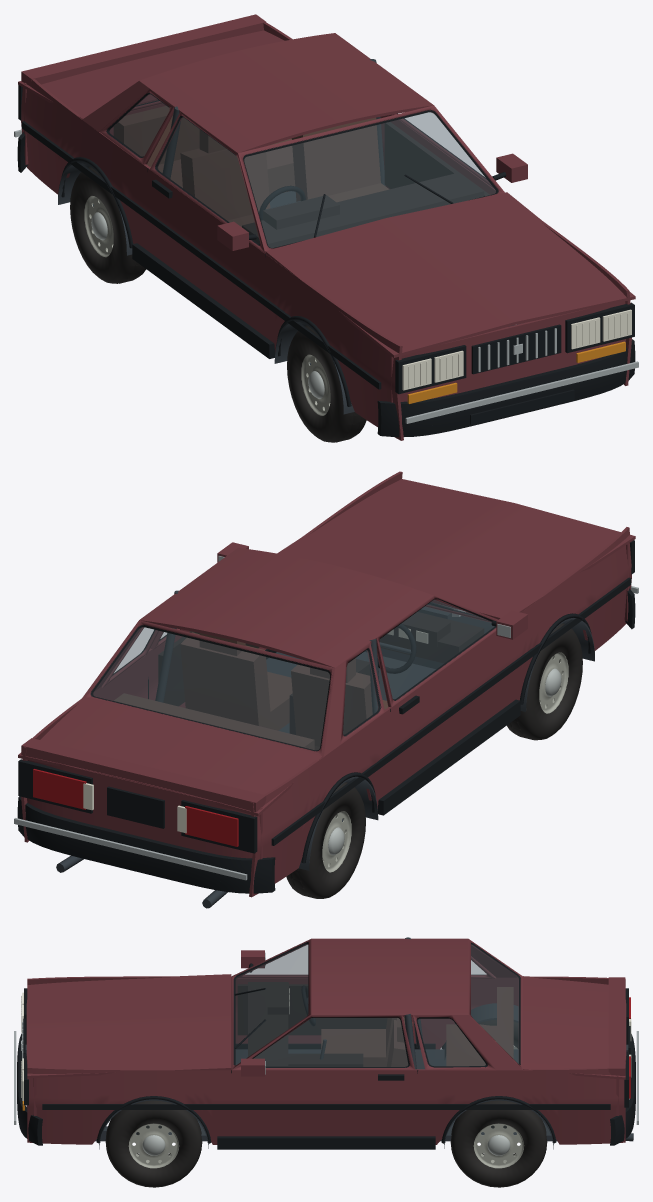
The model's file is morrow.glb.
3 renders of one model, top to bottom at view 1: azimuth 30°, elevation 25°; view 2: azimuth 150°, elevation 25°; view 3: azimuth 270°, elevation 25°, orthographic. The views are drawn at different scales.
Parts seen in each view (by area): view 1: panel_hoodMorrow, glass_FrontMorrow, panel_RoofMorrow, panel_BodyDoorLMorrow, panel_FrontWingLMorrow, panel_RearQuarterLMorrow, panel_bumper_frontMorrow, glass_BodyDoorLMorrow, panel_trunkMorrow, Interior Morrow Dashboard, Interior Morrow SeatBack1, Interior Morrow SeatBack-1 (+35 smaller); view 2: panel_hoodMorrow, panel_RoofMorrow, glass_RearMorrow, panel_trunkMorrow, panel_BodyDoorLMorrow, panel_RearQuarterLMorrow, panel_bumper_rearMorrow, panel_FrontWingLMorrow, Interior Morrow SeatBack1, glass_BodyDoorLMorrow, panel_MorrowrearValance, panel_trunkMorrowLip (+33 smaller); view 3: panel_hoodMorrow, panel_RoofMorrow, panel_BodyDoorRMorrow, panel_RearQuarterRMorrow, panel_FrontWingRMorrow, panel_trunkMorrow, glass_BodyDoorRMorrow, glass_FrontMorrow, Tire_Marten_Carcass_RR, Tire_Marten_Carcass_FR, glass_RearMorrow, panel_MorrowWaistStripR (+36 smaller).
Part boxes in pixels (x1,y1,x2,y2): panel_hoodMorrow: [265, 192, 635, 357]; glass_FrontMorrow: [244, 112, 495, 247]; panel_RoofMorrow: [139, 33, 433, 152]; panel_BodyDoorLMorrow: [145, 167, 265, 336]; panel_FrontWingLMorrow: [262, 254, 403, 440]; panel_RearQuarterLMorrow: [21, 79, 150, 250]; panel_bumper_frontMorrow: [377, 339, 635, 437]; glass_BodyDoorLMorrow: [157, 117, 259, 243]; panel_trunkMorrow: [18, 30, 284, 119]; Interior Morrow Dashboard: [242, 172, 484, 247]; Interior Morrow SeatBack1: [291, 117, 380, 201]; Interior Morrow SeatBack-1: [180, 148, 270, 220]; panel_hoodMorrow: [277, 479, 635, 619]; panel_RoofMorrow: [139, 547, 433, 667]; glass_RearMorrow: [93, 627, 329, 750]; panel_trunkMorrow: [18, 697, 322, 816]; panel_BodyDoorLMorrow: [388, 631, 510, 791]; panel_RearQuarterLMorrow: [249, 708, 392, 897]; panel_bumper_rearMorrow: [17, 796, 275, 893]; panel_FrontWingLMorrow: [507, 527, 631, 705]; Interior Morrow SeatBack1: [180, 632, 270, 726]; glass_BodyDoorLMorrow: [379, 599, 494, 699]; panel_MorrowrearValance: [27, 760, 262, 859]; panel_trunkMorrowLip: [21, 738, 266, 812]; panel_hoodMorrow: [27, 974, 231, 1078]; panel_RoofMorrow: [311, 938, 468, 1016]; panel_BodyDoorRMorrow: [231, 1069, 417, 1136]; panel_RearQuarterRMorrow: [417, 1067, 625, 1144]; panel_FrontWingRMorrow: [27, 1067, 231, 1144]; panel_trunkMorrow: [523, 976, 625, 1079]; glass_BodyDoorRMorrow: [254, 1018, 407, 1066]; glass_FrontMorrow: [235, 944, 308, 1064]; Tire_Marten_Carcass_RR: [450, 1100, 547, 1187]; Tire_Marten_Carcass_FR: [105, 1100, 202, 1187]; glass_RearMorrow: [471, 944, 518, 1063]; panel_MorrowWaistStripR: [42, 1104, 610, 1109].
Bounding box in the file's own units: 2.14 × 1.49 × 4.93.
